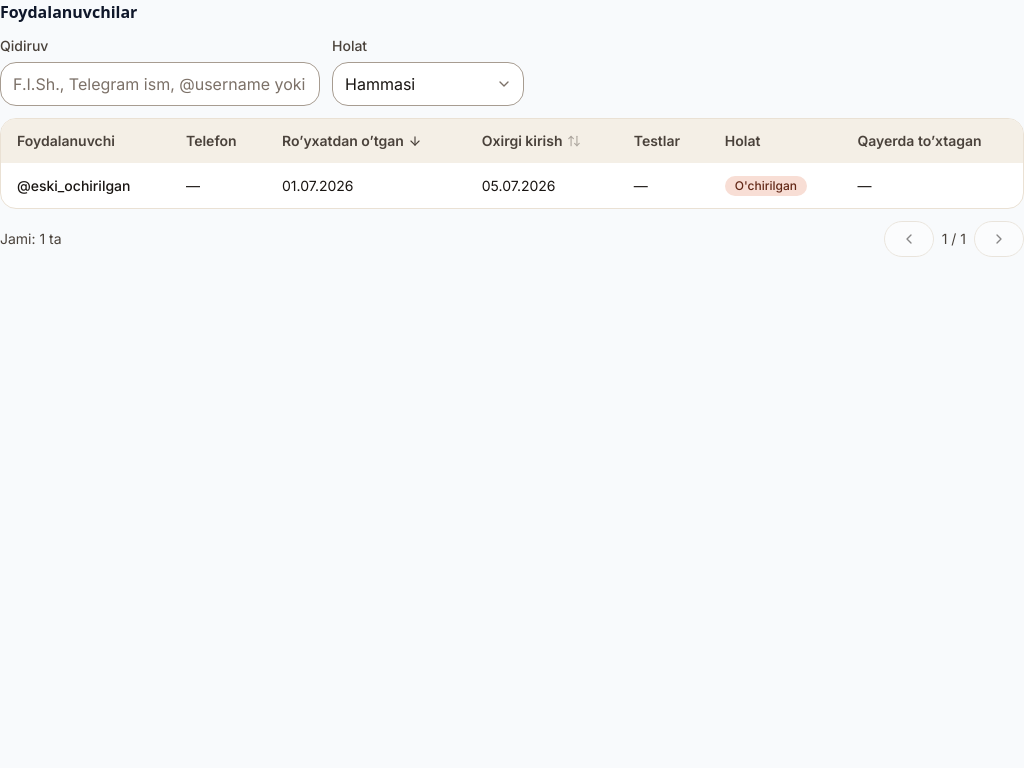
Test: PublicSpaceUsersSection › sababsiz o'chirilgan akkauntda "Sabab ko'rsatilmagan" ko'rsatiladi
The image size is (1024, 768).
Click the button "@eski_ochirilgan" at (512, 186), box [1,163,1023,208]
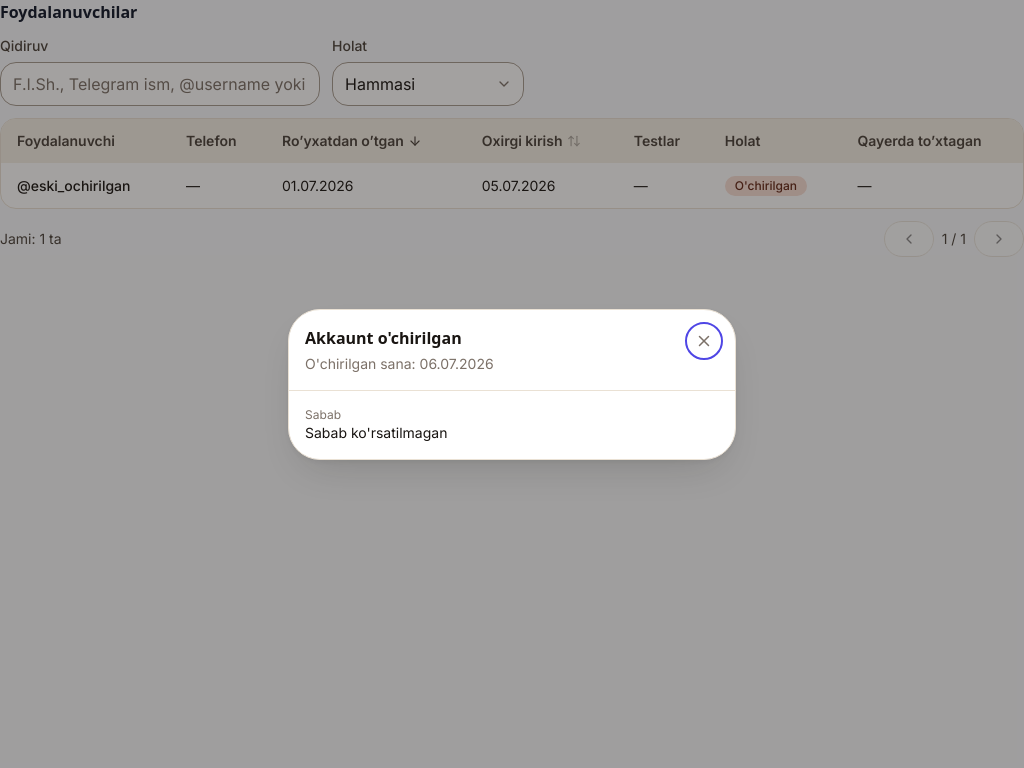
Result: the heading "Akkaunt o'chirilgan" is shown at [305,326,462,348]
Result: the text "Sabab ko'rsatilmagan" is shown at [305,424,447,440]
